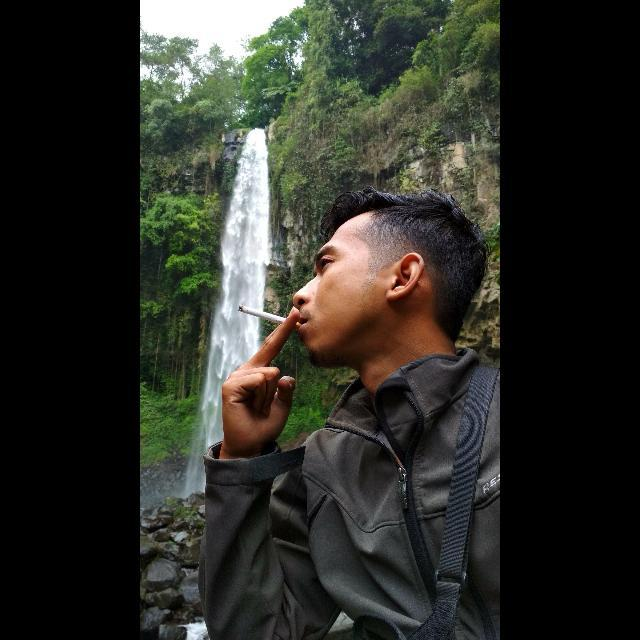rokok: (238, 298, 304, 332)
